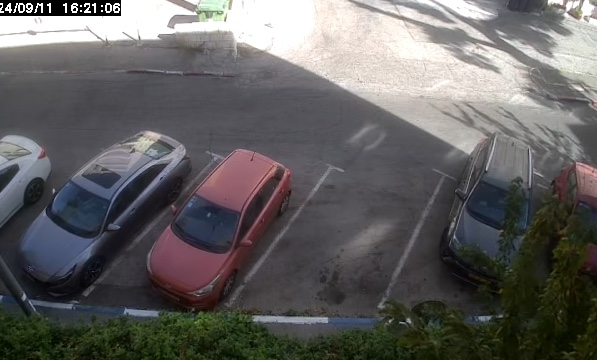empty: (292, 141, 441, 313)
